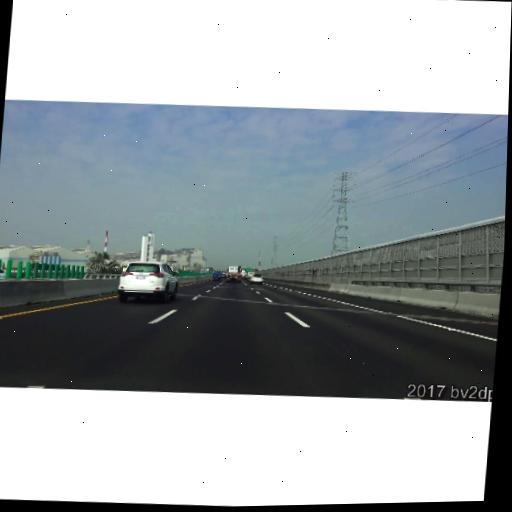Car: (117, 260, 179, 305), (226, 265, 243, 283), (250, 273, 264, 284), (212, 270, 222, 281), (248, 272, 255, 281), (221, 273, 226, 278), (244, 274, 248, 279)
